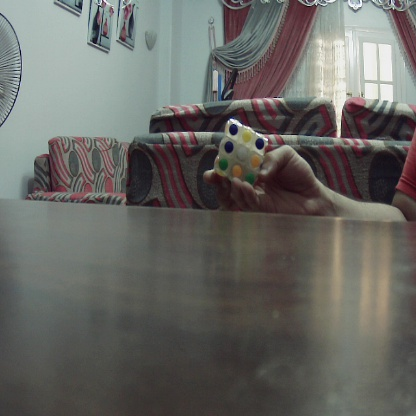Rubix Cube: (213, 117, 266, 184)
